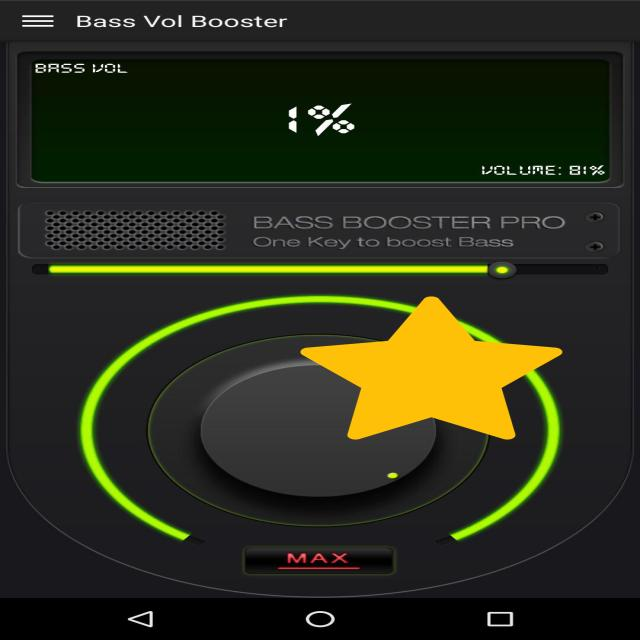forced continuity: (300, 296, 562, 440)
